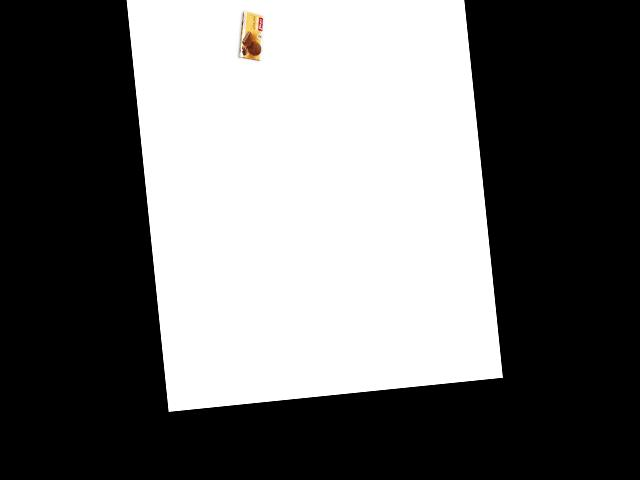chocolate: (238, 1, 268, 65)
